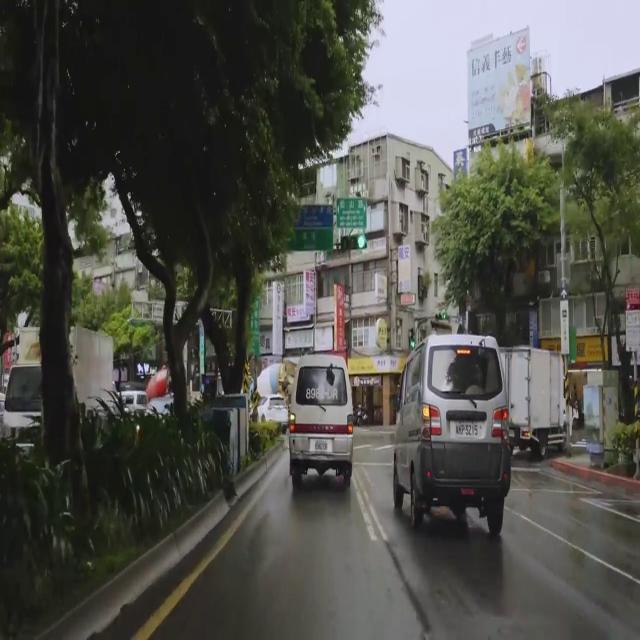green light: (342, 236, 366, 249)
